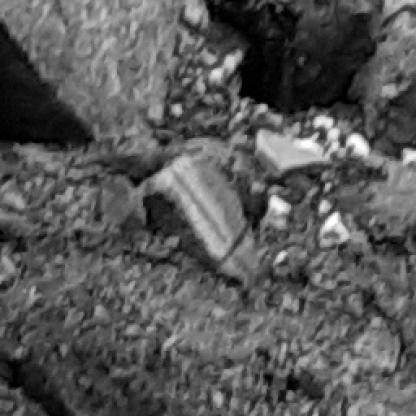cementitious_debris: (0, 3, 411, 409)
